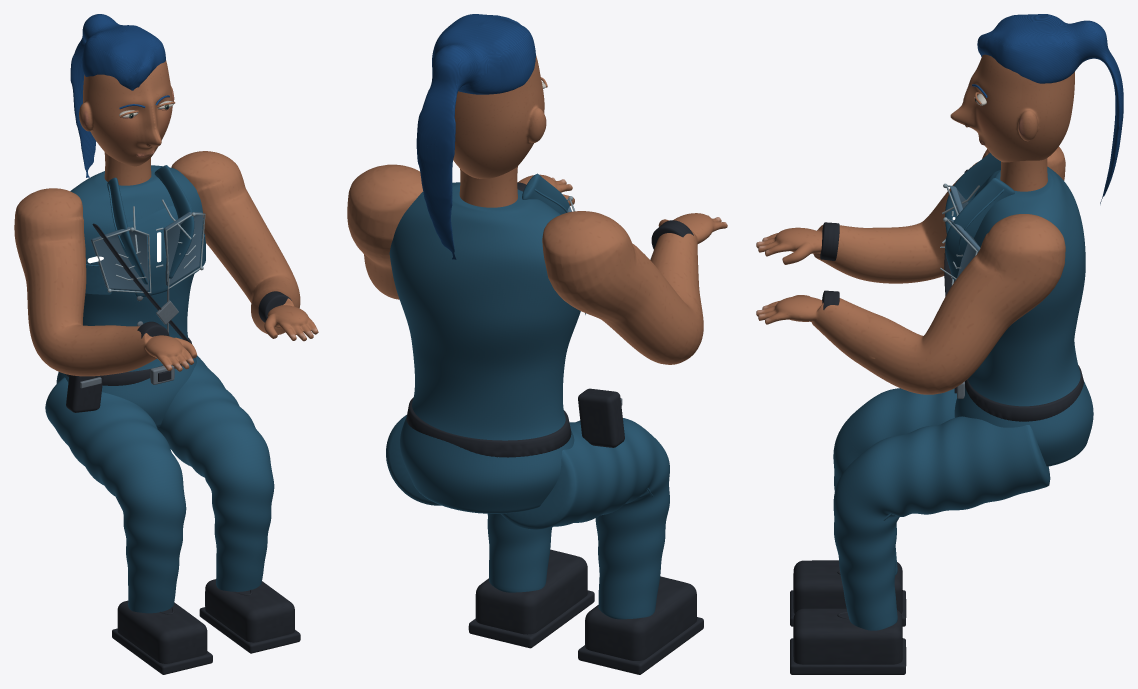
Rendered from nightfall.gltf.
3 renders of one model, left to right at view 1: azimuth 30°, elevation 25°; view 2: azimuth 150°, elevation 25°; view 3: azimuth 270°, elevation 25°, orthographic. The views are drawn at different scales.
Visible parts, largest first — view 1: council-asset-6-nightfall_Fabric, council-asset-6-nightfall_Skin, council-asset-6-nightfall_Leather, sculpted-head_Skin, sculpted-head_Hair, Oni Metal tailoring, council-asset-6-nightfall_Metal; view 2: council-asset-6-nightfall_Fabric, council-asset-6-nightfall_Skin, council-asset-6-nightfall_Leather, sculpted-head_Hair, sculpted-head_Skin; view 3: council-asset-6-nightfall_Fabric, council-asset-6-nightfall_Skin, council-asset-6-nightfall_Leather, sculpted-head_Skin, sculpted-head_Hair, Oni Metal tailoring.
Part boxes in pixels (left/top/right/bottom): council-asset-6-nightfall_Fabric: left=45, top=165, right=274, bottom=613; council-asset-6-nightfall_Skin: left=14, top=151, right=318, bottom=376; council-asset-6-nightfall_Leather: left=65, top=223, right=300, bottom=674; sculpted-head_Skin: left=79, top=60, right=174, bottom=166; sculpted-head_Hair: left=70, top=14, right=165, bottom=177; Oni Metal tailoring: left=91, top=199, right=205, bottom=293; council-asset-6-nightfall_Metal: left=80, top=288, right=178, bottom=388; council-asset-6-nightfall_Fabric: left=386, top=173, right=669, bottom=619; council-asset-6-nightfall_Skin: left=347, top=164, right=727, bottom=364; council-asset-6-nightfall_Leather: left=406, top=182, right=703, bottom=674; sculpted-head_Hair: left=416, top=14, right=535, bottom=259; sculpted-head_Skin: left=453, top=55, right=546, bottom=178; council-asset-6-nightfall_Fabric: left=833, top=153, right=1093, bottom=630; council-asset-6-nightfall_Skin: left=756, top=146, right=1065, bottom=394; council-asset-6-nightfall_Leather: left=790, top=169, right=1083, bottom=674; sculpted-head_Skin: left=950, top=54, right=1074, bottom=162; sculpted-head_Hair: left=977, top=14, right=1123, bottom=204; Oni Metal tailoring: left=940, top=183, right=980, bottom=285.
Size of what is drawn, in the model's own units: 1 by 2.05 by 1.11.
Materials: 7 (5 with a texture image).
